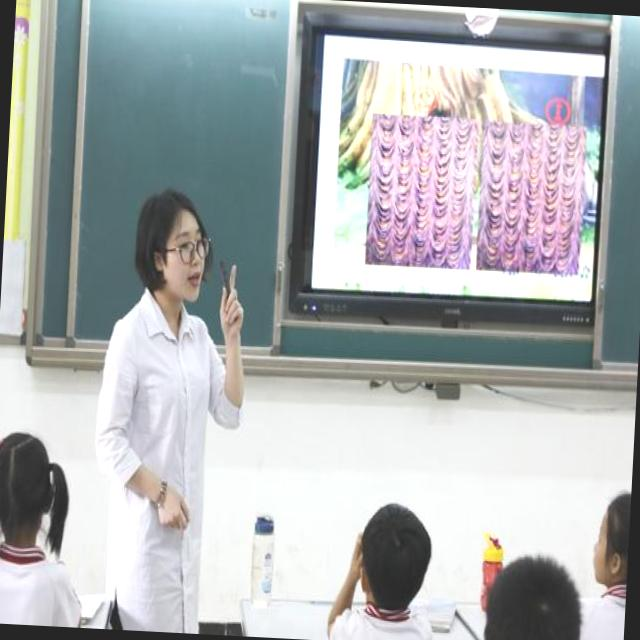no-helmet: (346, 494, 451, 610), (479, 551, 587, 640), (130, 183, 217, 256), (0, 430, 71, 519), (594, 485, 630, 579)
no-vest: (0, 546, 63, 627)
vest: (90, 297, 234, 540)
